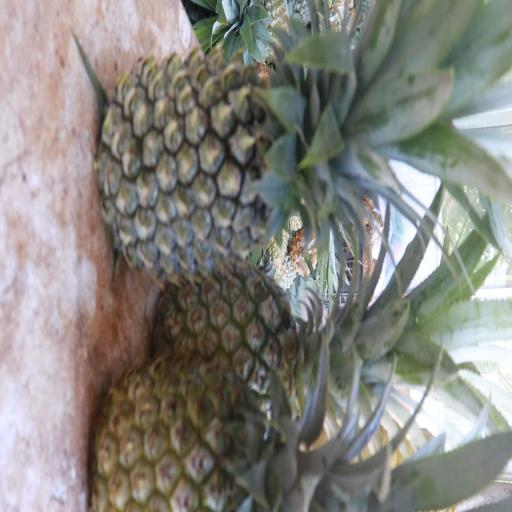------------------------------: (84, 354, 429, 512), (150, 240, 388, 446)
